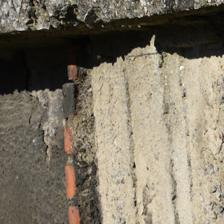Crack: (11, 41, 49, 127)
